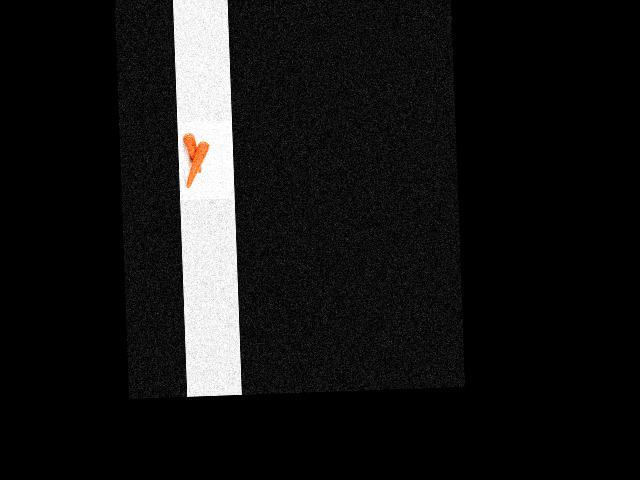carrot: (182, 129, 203, 177)
